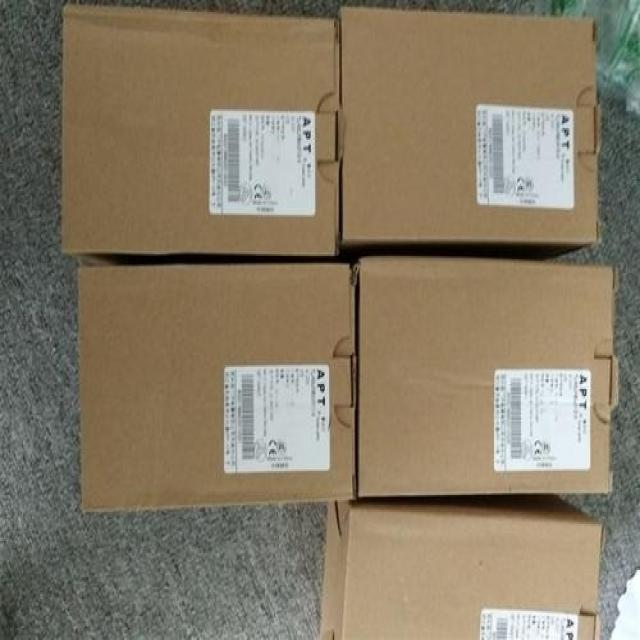box: (61, 5, 339, 256), (78, 263, 356, 512), (342, 5, 602, 259), (353, 256, 620, 498), (319, 497, 604, 640)
